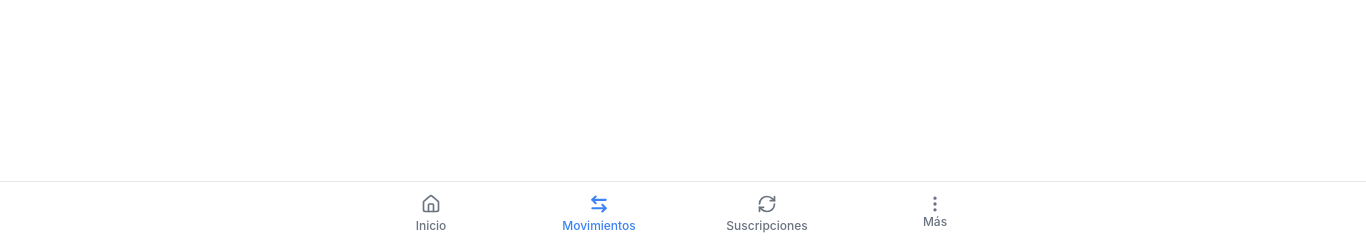
BottomNav › Más overflow menu › closes overflow menu when overflow item is clicked
Click the button "Más" at (935, 212), box x1=851 y1=182 x2=1019 y2=242
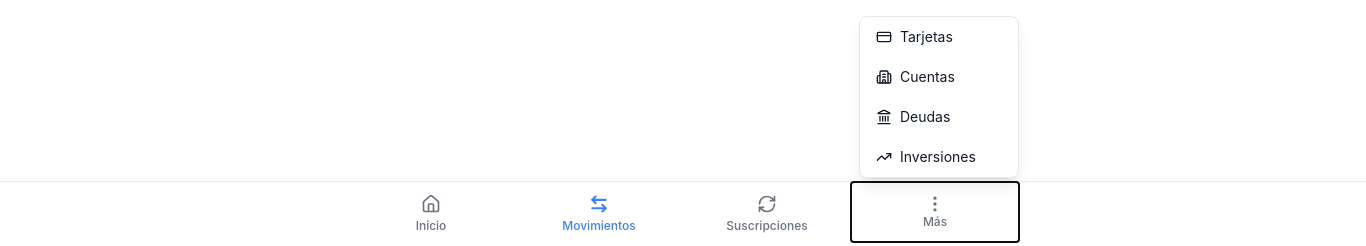
Click the link "Cuentas" at (915, 76), box x1=876 y1=68 x2=955 y2=85
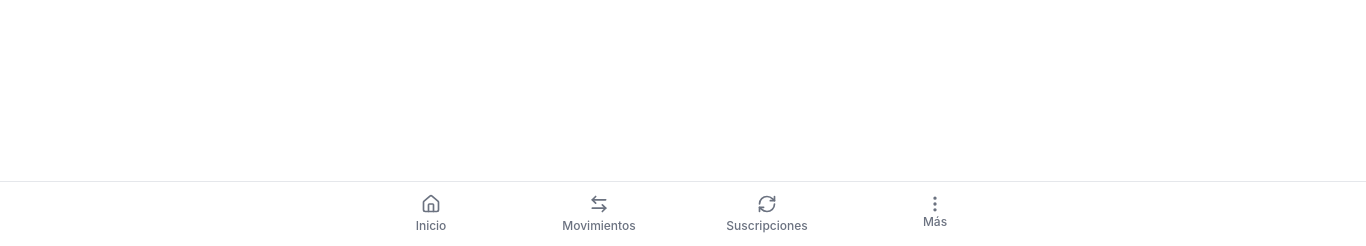
Check: the link "Deudas" is gone
